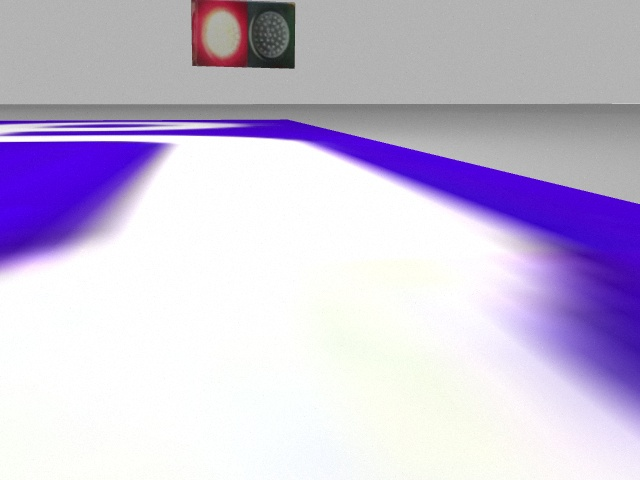red: (190, 1, 246, 68)
